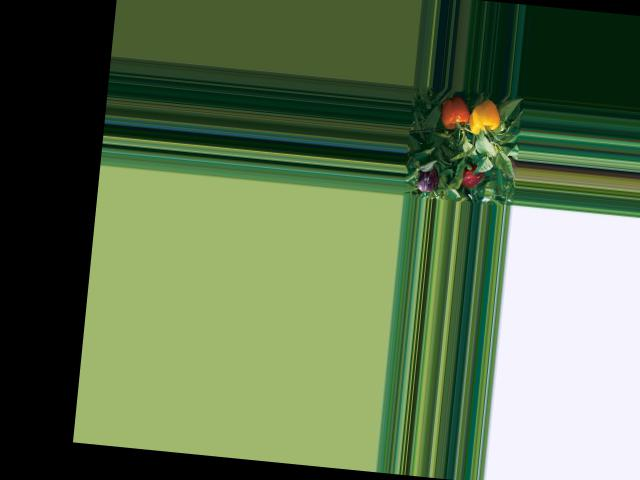bell_pepper: (460, 98, 502, 137)
